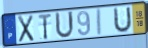9: (76, 10, 92, 37)
I: (96, 7, 103, 37)
T: (37, 12, 53, 41)
U: (54, 10, 75, 40), (113, 5, 133, 35)
X: (17, 14, 35, 44)
